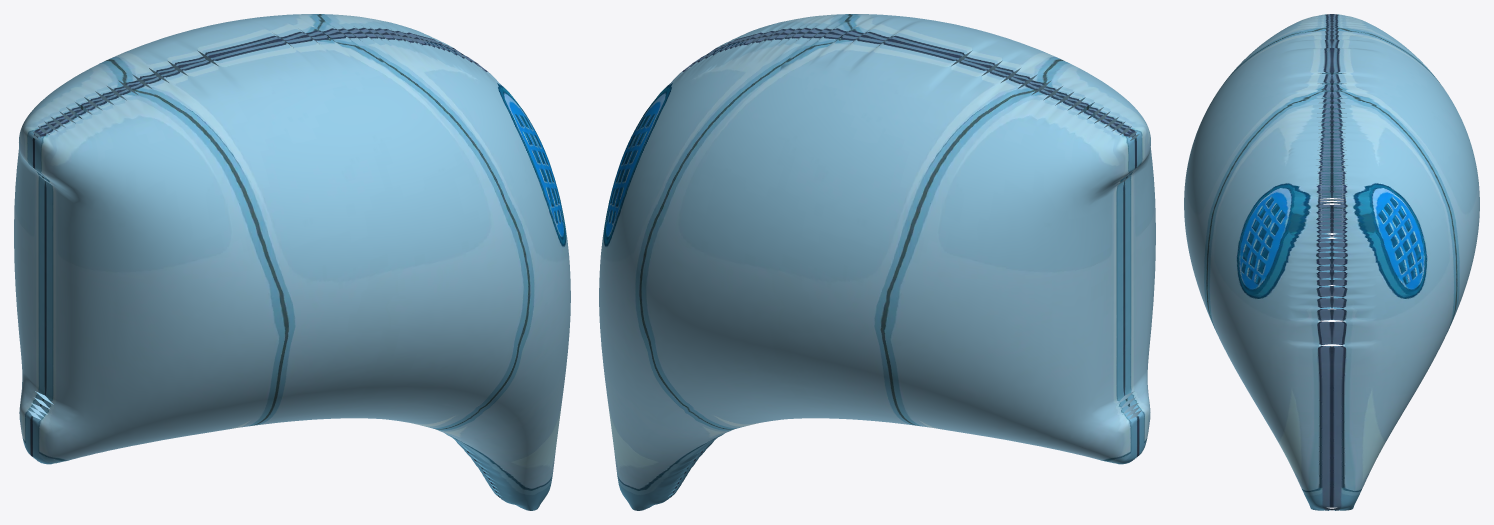
The model's file is vent_bulkhead.glb.
3 renders of one model, left to right at view 1: azimuth 30°, elevation 25°; view 2: azimuth 150°, elevation 25°; view 3: azimuth 270°, elevation 25°, orthographic. The views are drawn at different scales.
Parts seen in each view (by area): view 1: vent_bulkhead; view 2: vent_bulkhead; view 3: vent_bulkhead.
Part boxes in pixels (x1=…): vent_bulkhead: x1=14, y1=14, x2=570, y2=510; vent_bulkhead: x1=599, y1=14, x2=1155, y2=510; vent_bulkhead: x1=1184, y1=14, x2=1479, y2=510.
Bounding box in the file's own units: 0.989 × 0.958 × 0.721.
1 material, 1 textured.
